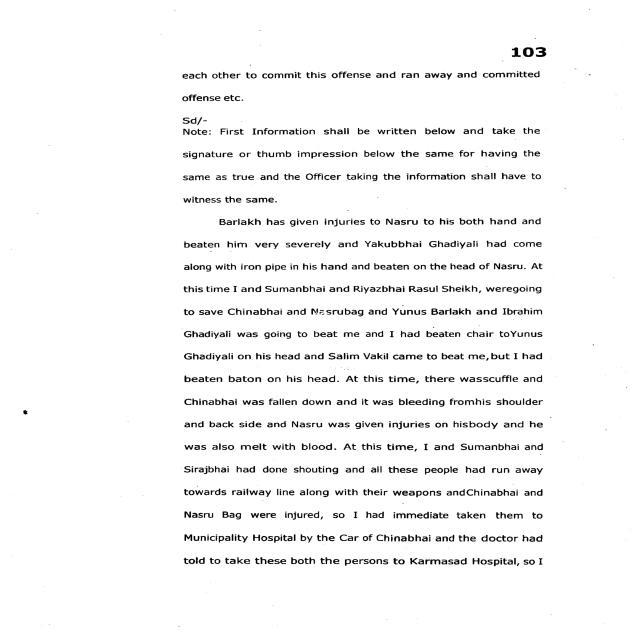page-number: (406, 0, 638, 65)
